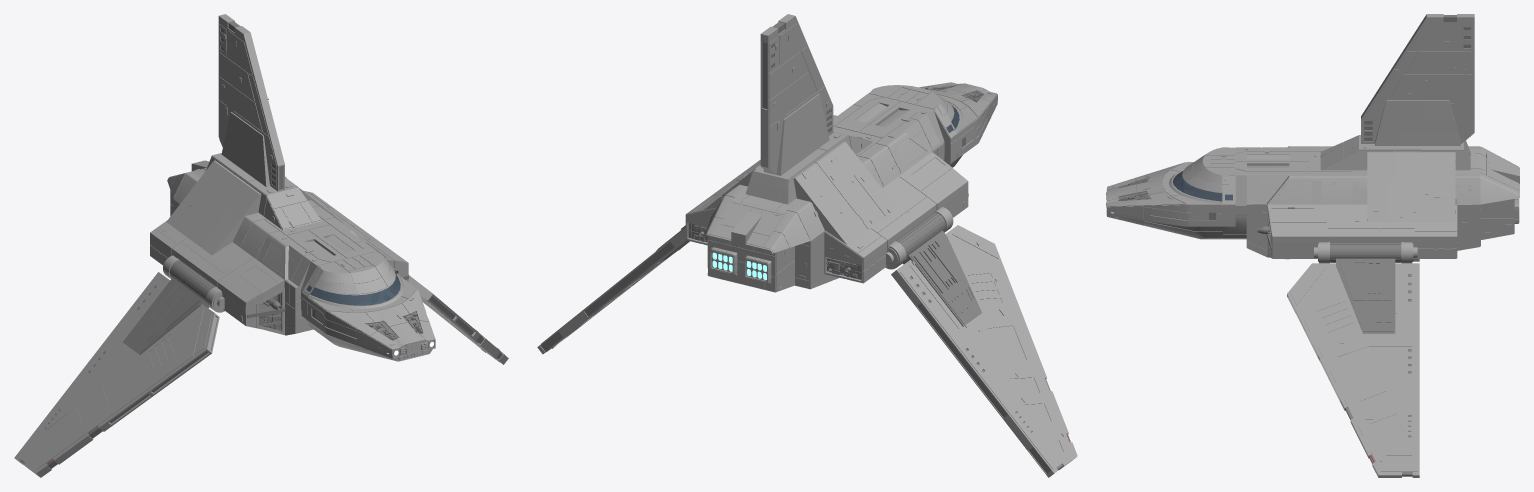
File: sw_ministry_shuttle.glb
The picture shows the model from 3 angles, left to right: view 1: azimuth 30°, elevation 25°; view 2: azimuth 150°, elevation 25°; view 3: azimuth 270°, elevation 25°; orthographic projection. The views are drawn at different scales.
Parts seen in each view (by area): view 1: Hull_Hullplates_0, Hull_Metal_0, RightWing_Hullplates_0, RightWing_Metal_0, RightWing_MetalDark_0, Hull_DarkWindow_0, Hull_MetalDark_0, LeftWing_Metal_0, Greebles_MetalDark_0; view 2: Hull_Hullplates_0, Hull_Metal_0, RightWing_Hullplates_0, RightWing_Metal_0, RightWing_MetalDark_0, LeftWing_MetalDark_0, LeftWing_Metal_0, Hull_MetalDark_0, Greebles_MetalDark_0, LeftWing_Hullplates_0; view 3: Hull_Hullplates_0, LeftWing_Hullplates_0, Hull_Metal_0, LeftWing_Metal_0, LeftWing_MetalDark_0, Hull_MetalDark_0, Hull_DarkWindow_0.
Part boxes in pixels (x1,y1,x2,y2): Hull_Hullplates_0: (150, 24, 435, 361); Hull_Metal_0: (150, 14, 435, 361); RightWing_Hullplates_0: (17, 275, 211, 469); RightWing_Metal_0: (14, 272, 219, 477); RightWing_MetalDark_0: (19, 260, 215, 468); Hull_DarkWindow_0: (306, 273, 400, 305); Hull_MetalDark_0: (220, 21, 422, 347); LeftWing_Metal_0: (408, 276, 508, 364); Greebles_MetalDark_0: (259, 295, 422, 340); Hull_Hullplates_0: (685, 23, 997, 292); Hull_Metal_0: (686, 14, 997, 292); RightWing_Hullplates_0: (900, 228, 1073, 468); RightWing_Metal_0: (891, 225, 1077, 477); RightWing_MetalDark_0: (895, 212, 1070, 473); LeftWing_MetalDark_0: (541, 225, 689, 351); LeftWing_Metal_0: (537, 228, 685, 354); Hull_MetalDark_0: (688, 22, 982, 279); Greebles_MetalDark_0: (688, 86, 983, 279); LeftWing_Hullplates_0: (541, 227, 686, 351); Hull_Hullplates_0: (1107, 24, 1518, 258); LeftWing_Hullplates_0: (1291, 266, 1417, 471); Hull_Metal_0: (1107, 14, 1519, 263); LeftWing_Metal_0: (1287, 263, 1419, 477); LeftWing_MetalDark_0: (1330, 242, 1412, 476); Hull_MetalDark_0: (1118, 15, 1470, 254); Hull_DarkWindow_0: (1172, 171, 1232, 201).
Size of the model in its own units: 1.54 by 1.15 by 1.22.
